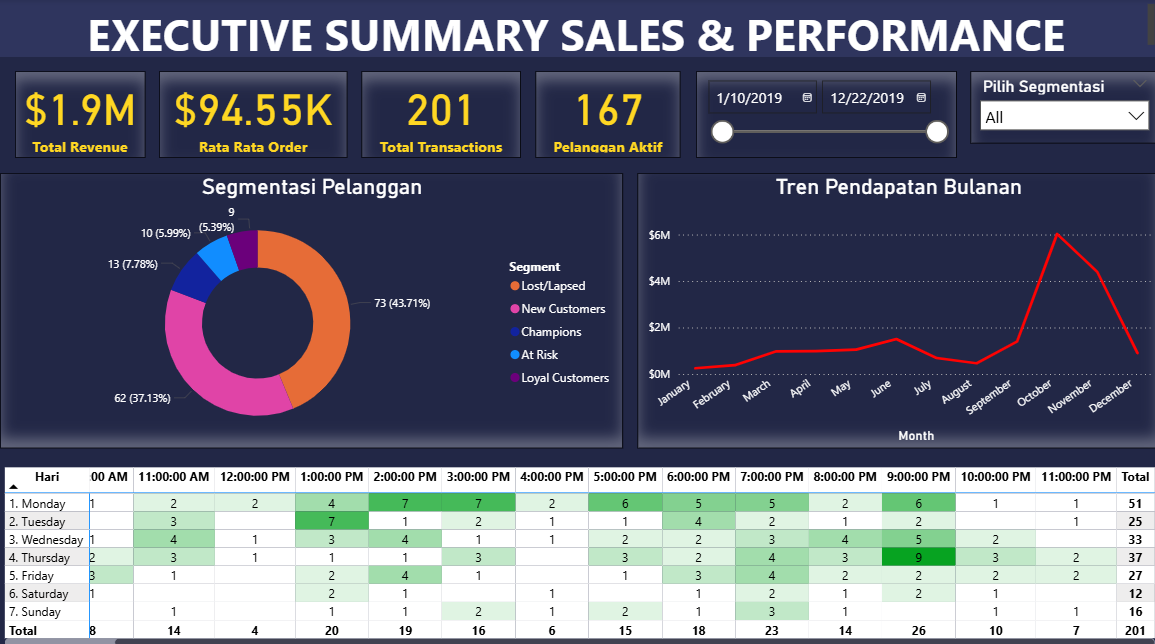

What the dashboard file says about the page in this screenshot:
{"tool":"powerbi","page":{"name":"Page 1","canvas":[1280,720],"ordinal":0},"visuals":[{"type":"donutChart","title":"Segmentasi Pelanggan","fields":{"Category":["clean_rfm_segments (1).Segment"],"Y":["CountNonNull(clean_rfm_segments (1).User_id)"]},"box":[0,192,688,304],"z":0},{"type":"textbox","box":[0,0,1280,64],"z":2000},{"type":"pivotTable","fields":{"Rows":["clean_transactions_full (1).DayOfWeek_Sorted"],"Columns":["clean_transactions_full (1).Hour_Sorted"],"Values":["CountNonNull(clean_transactions_full (1).Session_id)"]},"box":[0,512,1280,208],"z":3000},{"type":"lineChart","title":"Tren Pendapatan Bulanan","fields":{"Category":["clean_transactions_full (1).DateTime.Variation.Date Hierarchy.Month"],"Y":["Sum(clean_transactions_full (1).Total Price)"]},"box":[704,192,576,304],"z":4000},{"type":"slicer","fields":{"Values":["clean_transactions_full (1).DateTime"]},"box":[768,80,288,96],"z":5000},{"type":"card","fields":{"Values":["clean_rfm_segments (1).Revenue Fix"]},"box":[16,80,144,96],"z":6000},{"type":"card","fields":{"Values":["CountNonNull(clean_transactions_full (1).Session_id)"]},"box":[400,80,176,96],"z":7000},{"type":"card","fields":{"Values":["CountNonNull(clean_rfm_segments (1).User_id)"]},"box":[592,80,160,96],"z":8000},{"type":"card","fields":{"Values":["Avg(clean_transactions_full (1).Total Price)"]},"box":[176,80,208,96],"z":9000},{"type":"slicer","fields":{"Values":["clean_rfm_segments (1).Segment"]},"box":[1072,80,208,80],"z":10000}]}

Visuals, with their boxes in screenshot pixels (x1, y1, x2, y2), scaled from the page's 1280x720 canvas onto the 1155x644 screenshot:
"Segmentasi Pelanggan" donutChart: bbox(0, 172, 621, 444)
textbox: bbox(0, 0, 1154, 57)
pivotTable - clean_transactions_full (1).DayOfWeek_Sorted x clean_transactions_full (1).Hour_Sorted: bbox(0, 458, 1154, 643)
"Tren Pendapatan Bulanan" lineChart: bbox(635, 172, 1154, 444)
slicer - clean_transactions_full (1).DateTime: bbox(693, 72, 953, 157)
card - clean_rfm_segments (1).Revenue Fix: bbox(14, 72, 144, 157)
card - CountNonNull(clean_transactions_full (1).Session_id): bbox(361, 72, 520, 157)
card - CountNonNull(clean_rfm_segments (1).User_id): bbox(534, 72, 679, 157)
card - Avg(clean_transactions_full (1).Total Price): bbox(159, 72, 346, 157)
slicer - clean_rfm_segments (1).Segment: bbox(967, 72, 1154, 143)
